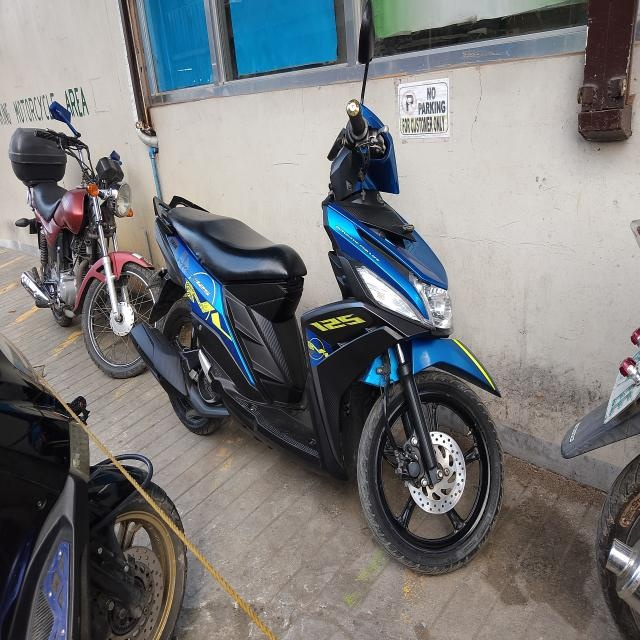Motorcycle: (148, 94, 520, 581), (14, 152, 161, 381)
